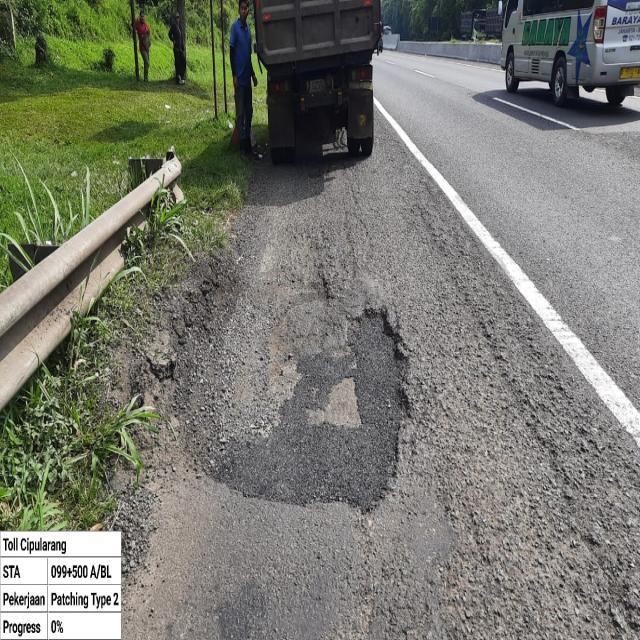Buraco: (205, 302, 418, 518)
